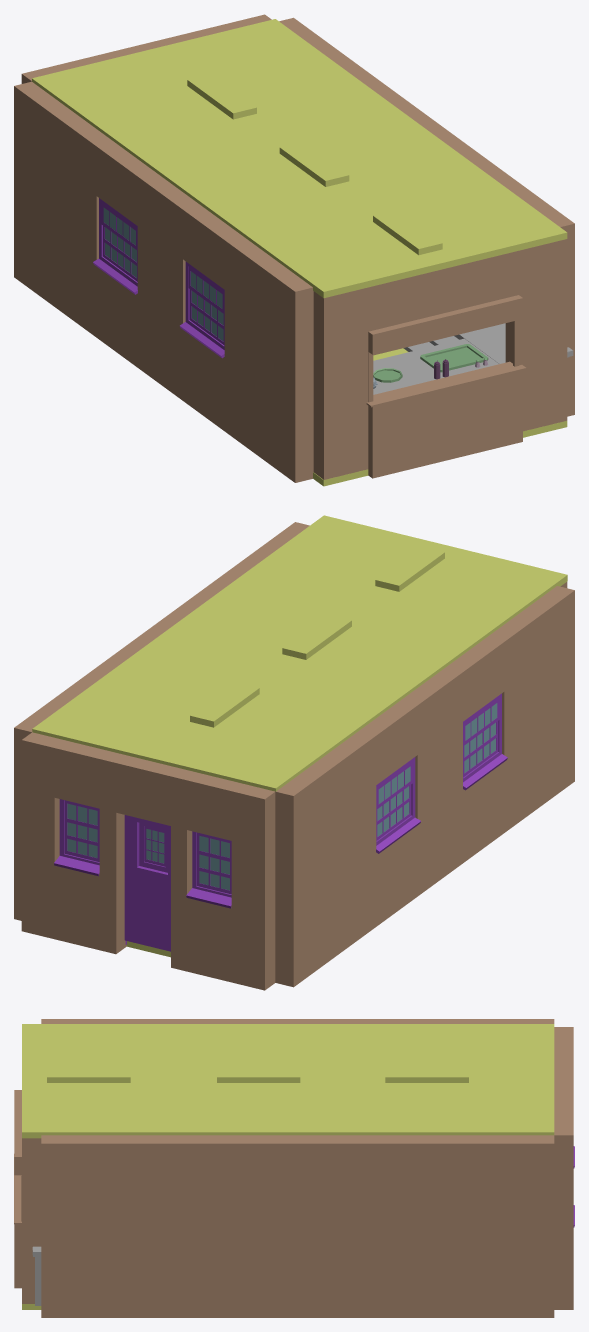
The model's file is FullScene2.fbx.
The picture shows the model from 3 angles, top to bottom: view 1: azimuth 30°, elevation 25°; view 2: azimuth 150°, elevation 25°; view 3: azimuth 270°, elevation 25°; orthographic projection. The views are drawn at different scales.
Visible parts, largest first — view 1: walls, Floors, Windows, Glass1, Counter_5, Counter_8, Tray; view 2: walls, Floors, Windows, Glass1; view 3: walls, Floors, Counter_8.
Part boxes in pixels (left/top/right/bottom): walls: left=14, top=14, right=574, bottom=482; Floors: left=32, top=19, right=567, bottom=486; Windows: left=93, top=198, right=224, bottom=358; Glass1: left=103, top=207, right=223, bottom=341; Counter_5: left=373, top=338, right=569, bottom=392; Counter_8: left=403, top=323, right=573, bottom=363; Tray: left=420, top=344, right=488, bottom=372; walls: left=14, top=522, right=574, bottom=990; Floors: left=32, top=515, right=567, bottom=957; Windows: left=54, top=693, right=507, bottom=951; Glass1: left=67, top=703, right=497, bottom=890; walls: left=14, top=1019, right=573, bottom=1317; Floors: left=22, top=1024, right=554, bottom=1309; Counter_8: left=33, top=1246, right=41, bottom=1305.
Bounding box in the file's own units: 4.65 × 3.15 × 8.75.
